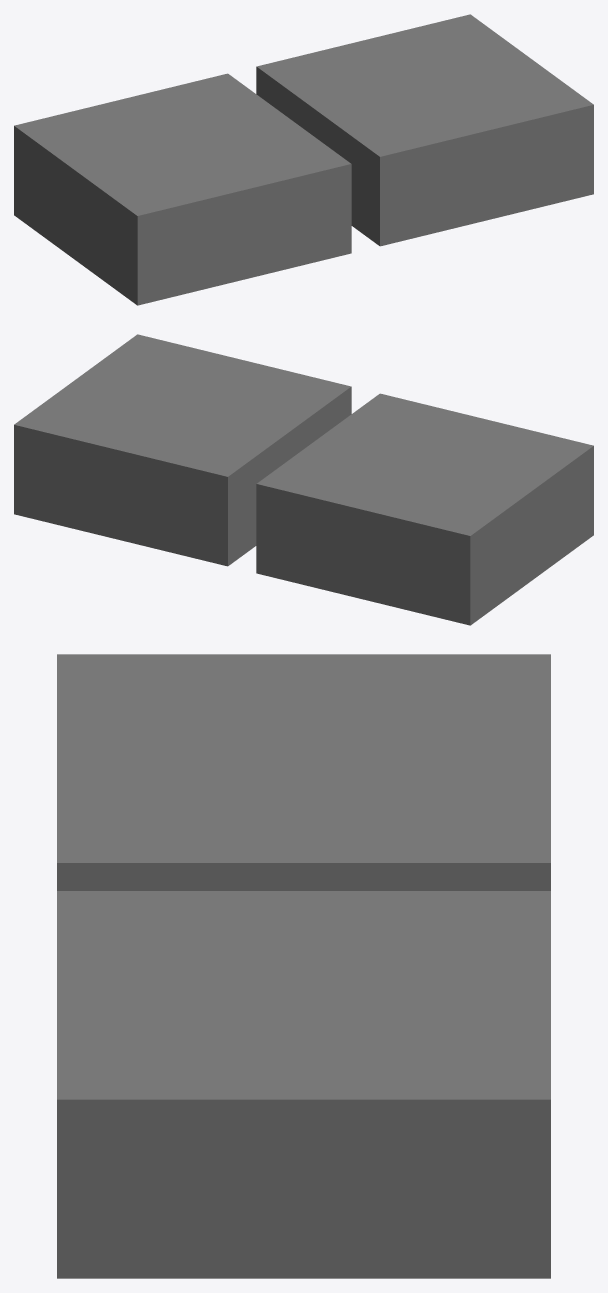
Rendered from С42_Кромки.glb.
3 views of the same model, one above another, from view 1: azimuth 30°, elevation 25°; view 2: azimuth 150°, elevation 25°; view 3: azimuth 270°, elevation 25° (orthographic). The views are drawn at different scales.
Visible parts, largest first — view 1: node_id3; view 2: node_id3; view 3: node_id3.
Boxes of the visible parts, bbox=[...] form: node_id3: bbox=[14, 14, 593, 305]; node_id3: bbox=[14, 334, 593, 625]; node_id3: bbox=[57, 654, 550, 1278].
Bounding box in the file's own units: 0.512 × 0.096 × 0.24.
Materials: 1 (1 with a texture image).
